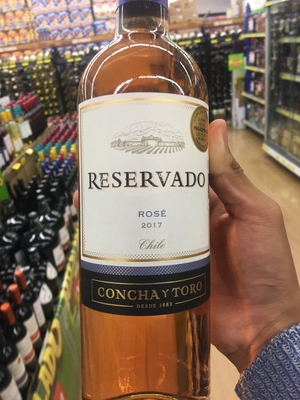reservado rose: (74, 5, 209, 399)
